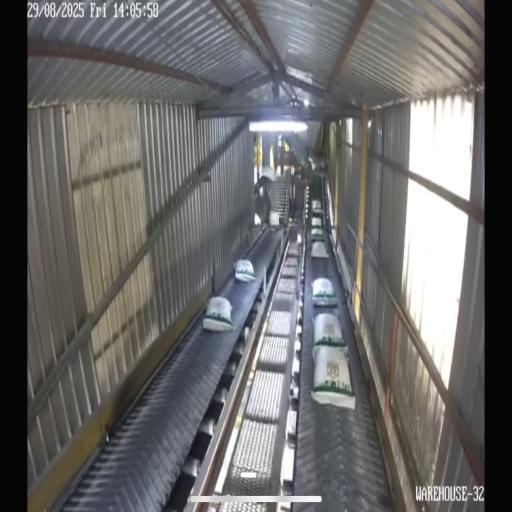c-belt-sack-count: (312, 345, 355, 408), (314, 313, 346, 348), (203, 296, 233, 331), (312, 277, 337, 307), (235, 259, 255, 282)
